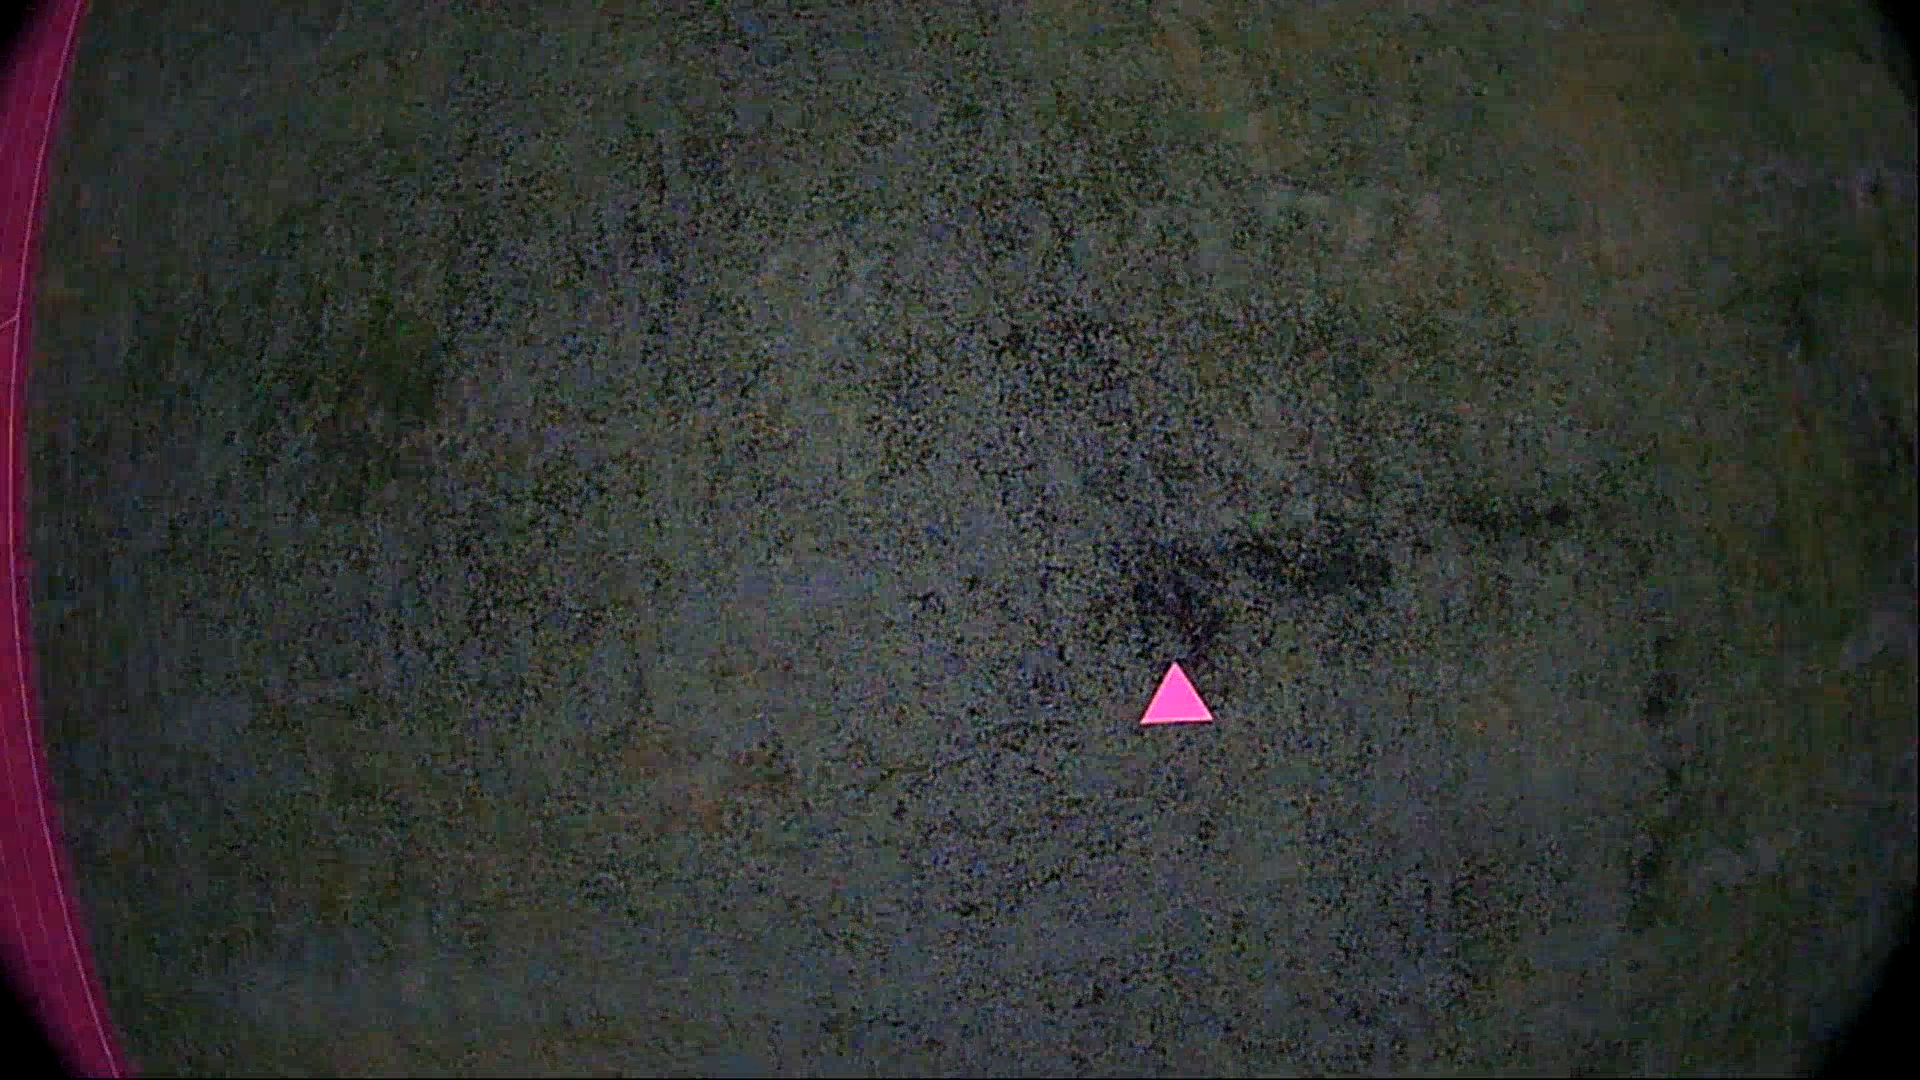triangle: (1133, 655, 1217, 735)
